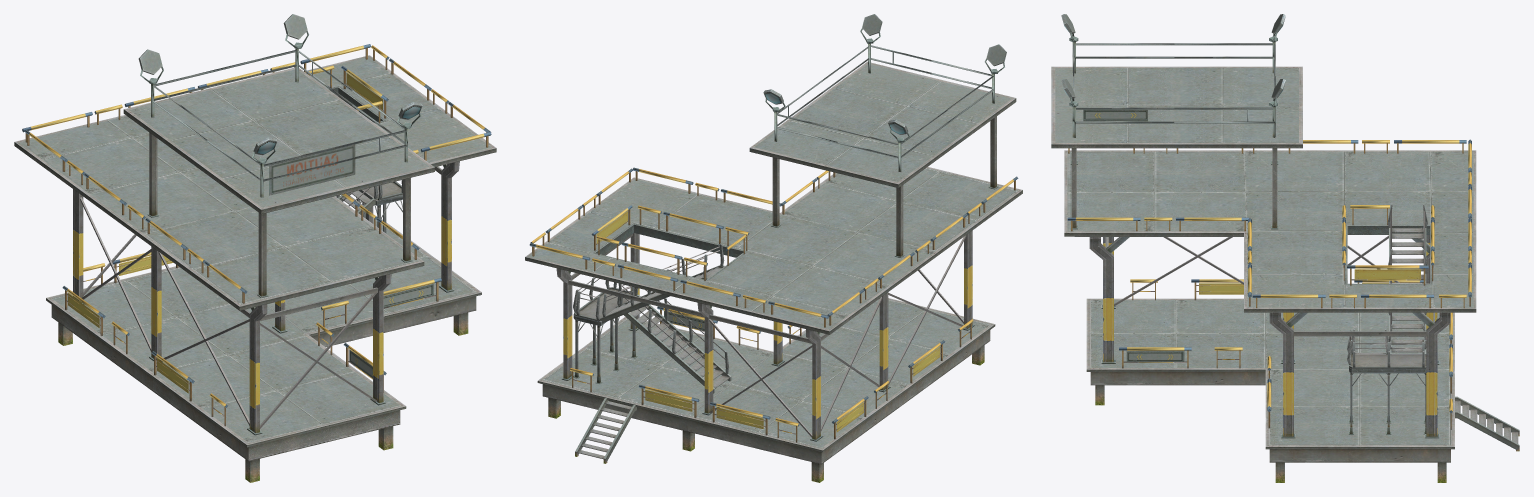
The model's file is Building_Mainexit02.glb.
3 views of the same model, side by side, from view 1: azimuth 30°, elevation 25°; view 2: azimuth 150°, elevation 25°; view 3: azimuth 270°, elevation 25° (orthographic). The views are drawn at different scales.
Parts seen in each view (by area): view 1: xiutz_mainexit_02; view 2: xiutz_mainexit_02; view 3: xiutz_mainexit_02.
Part boxes in pixels (<box>): xiutz_mainexit_02: <box>14,14,496,482</box>; xiutz_mainexit_02: <box>525,14,1022,482</box>; xiutz_mainexit_02: <box>1051,14,1519,482</box>.
Size of the model in its own units: 19.67 by 18.95 by 24.52.
Materials: 1 (1 with a texture image).
